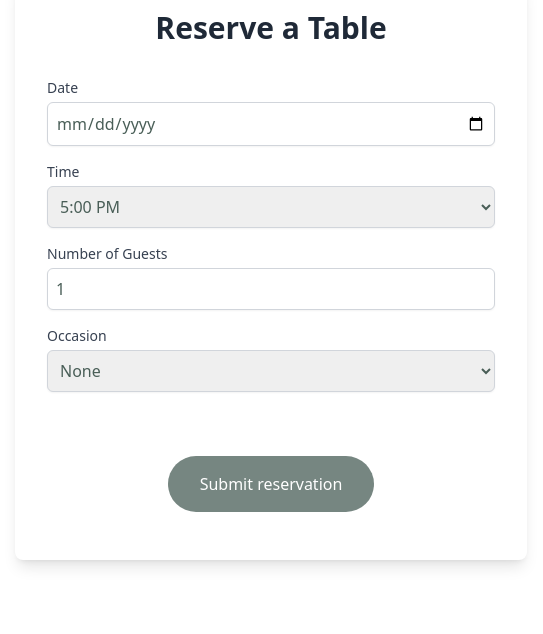
Test: ReservationForm Validation › displays an error message for more than 10 guests
Replace the text in the number field labelled "Number of Guests" with "11" at {"x": 271, "y": 289}, box [47, 268, 495, 310]
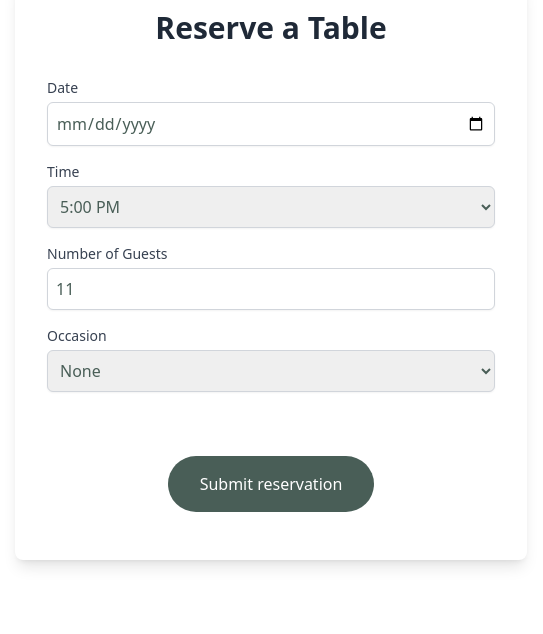
Leave the number field labelled "Number of Guests", box [47, 268, 495, 310]
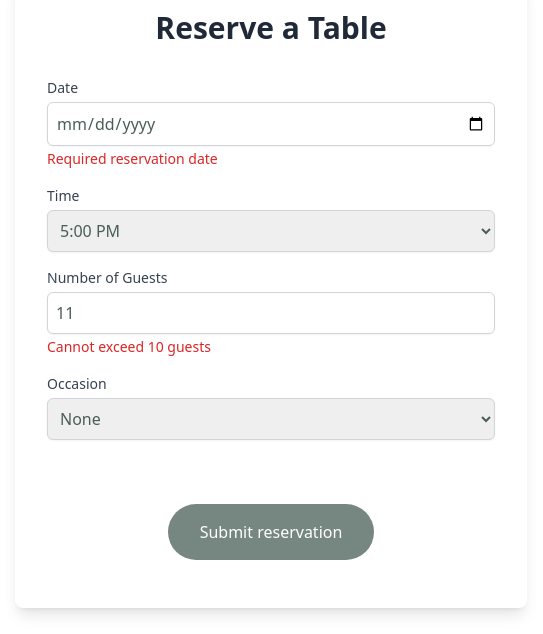
Now the text "Cannot exceed 10 guests" is shown, box [47, 337, 211, 356]
